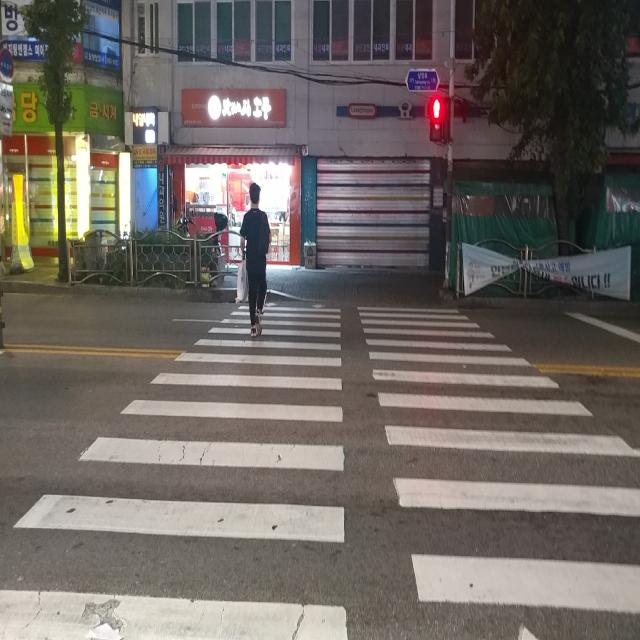빨간불: (431, 99, 445, 141)
횡단보도: (0, 300, 640, 640)
